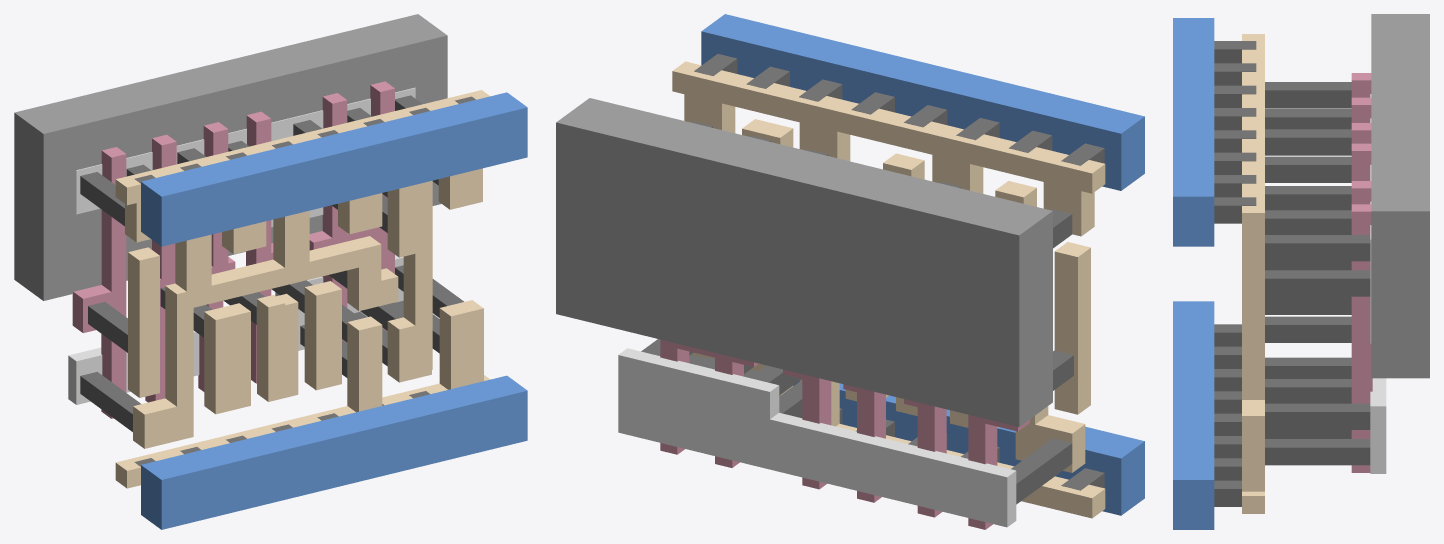
File: sky130_fd_sc_hd__and4_2.gds.gltf
3 views of the same model, side by side, from view 1: azimuth 30°, elevation 25°; view 2: azimuth 150°, elevation 25°; view 3: azimuth 270°, elevation 25° (orthographic). The views are drawn at different scales.
Parts seen in each view (by area): view 1: sky130_fd_sc_hd__and4_2_li1, sky130_fd_sc_hd__and4_2_met1, sky130_fd_sc_hd__and4_2_nwell, sky130_fd_sc_hd__and4_2_poly, sky130_fd_sc_hd__and4_2_licon, sky130_fd_sc_hd__and4_2_diff, sky130_fd_sc_hd__and4_2_mcon; view 2: sky130_fd_sc_hd__and4_2_nwell, sky130_fd_sc_hd__and4_2_li1, sky130_fd_sc_hd__and4_2_met1, sky130_fd_sc_hd__and4_2_diff, sky130_fd_sc_hd__and4_2_poly, sky130_fd_sc_hd__and4_2_mcon, sky130_fd_sc_hd__and4_2_licon; view 3: sky130_fd_sc_hd__and4_2_licon, sky130_fd_sc_hd__and4_2_nwell, sky130_fd_sc_hd__and4_2_met1, sky130_fd_sc_hd__and4_2_mcon, sky130_fd_sc_hd__and4_2_li1, sky130_fd_sc_hd__and4_2_poly, sky130_fd_sc_hd__and4_2_diff.
Part boxes in pixels (left/top/right/bottom): sky130_fd_sc_hd__and4_2_li1: left=115, top=90, right=489, bottom=488; sky130_fd_sc_hd__and4_2_met1: left=141, top=92, right=527, bottom=529; sky130_fd_sc_hd__and4_2_nwell: left=14, top=14, right=447, bottom=300; sky130_fd_sc_hd__and4_2_poly: left=72, top=81, right=394, bottom=418; sky130_fd_sc_hd__and4_2_licon: left=80, top=95, right=463, bottom=431; sky130_fd_sc_hd__and4_2_diff: left=68, top=87, right=415, bottom=404; sky130_fd_sc_hd__and4_2_mcon: left=134, top=96, right=475, bottom=466; sky130_fd_sc_hd__and4_2_nwell: left=556, top=98, right=1052, bottom=426; sky130_fd_sc_hd__and4_2_li1: left=672, top=61, right=1105, bottom=518; sky130_fd_sc_hd__and4_2_met1: left=701, top=14, right=1144, bottom=515; sky130_fd_sc_hd__and4_2_diff: left=618, top=348, right=1016, bottom=527; sky130_fd_sc_hd__and4_2_poly: left=660, top=339, right=1029, bottom=529; sky130_fd_sc_hd__and4_2_mcon: left=694, top=54, right=1104, bottom=490; sky130_fd_sc_hd__and4_2_licon: left=641, top=121, right=1073, bottom=504; sky130_fd_sc_hd__and4_2_licon: left=1265, top=82, right=1370, bottom=465; sky130_fd_sc_hd__and4_2_nwell: left=1371, top=14, right=1429, bottom=378; sky130_fd_sc_hd__and4_2_met1: left=1173, top=18, right=1214, bottom=529; sky130_fd_sc_hd__and4_2_mcon: left=1214, top=41, right=1256, bottom=506; sky130_fd_sc_hd__and4_2_li1: left=1242, top=34, right=1264, bottom=513; sky130_fd_sc_hd__and4_2_poly: left=1351, top=73, right=1372, bottom=472; sky130_fd_sc_hd__and4_2_diff: left=1370, top=94, right=1386, bottom=473.
Size of the model in its own units: 4.06 by 3.2 by 2.24.
